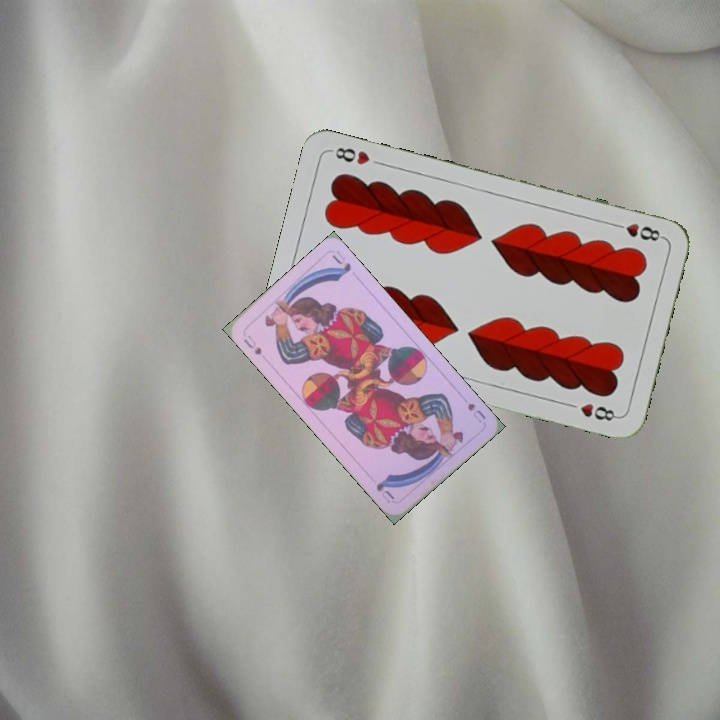H8: (607, 219, 666, 244)
SU: (463, 399, 489, 425), (239, 331, 264, 358)
